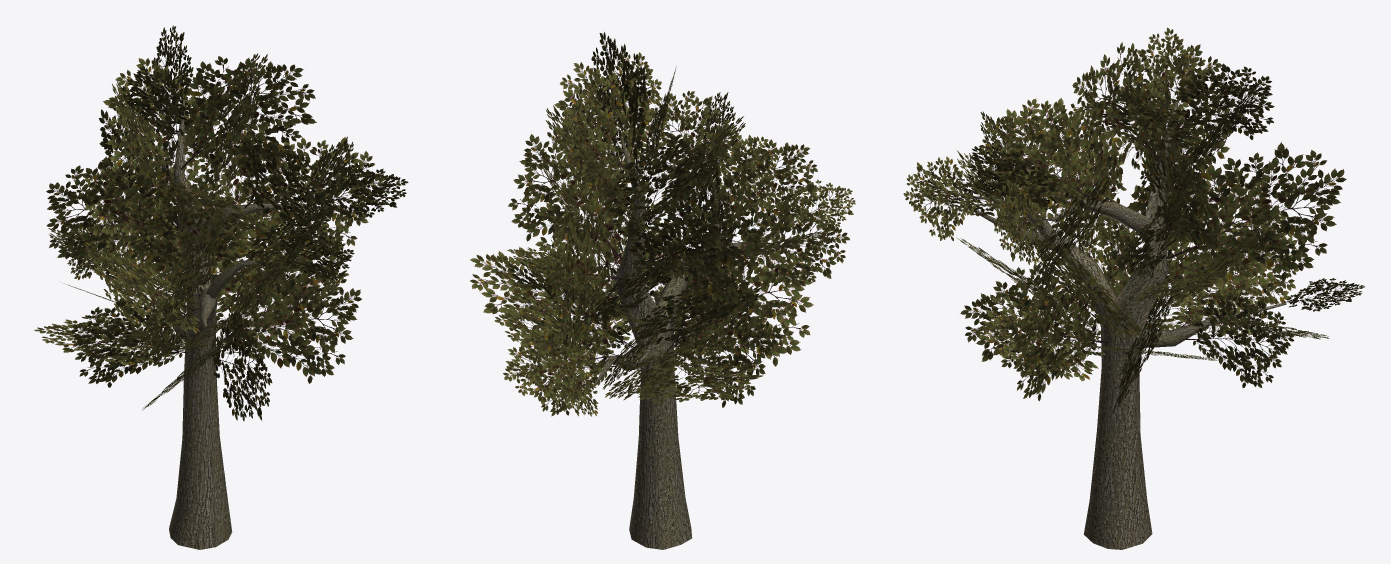
Rendered from tree_leaf.FBX.
3 views of the same model, side by side, from view 1: azimuth 30°, elevation 25°; view 2: azimuth 150°, elevation 25°; view 3: azimuth 270°, elevation 25° (orthographic). The views are drawn at different scales.
Parts seen in each view (by area): view 1: branch_leaf, trunk_leaf; view 2: branch_leaf, trunk_leaf; view 3: branch_leaf, trunk_leaf.
Boxes of the visible parts, left/top/right/bottom form: branch_leaf: left=34, top=25, right=408, bottom=421; trunk_leaf: left=108, top=100, right=307, bottom=549; branch_leaf: left=469, top=32, right=855, bottom=416; trunk_leaf: left=594, top=136, right=799, bottom=549; branch_leaf: left=903, top=27, right=1364, bottom=409; trunk_leaf: left=967, top=101, right=1286, bottom=549.
Size of what is drawn, in the model's own units: 741 by 1035 by 896.
